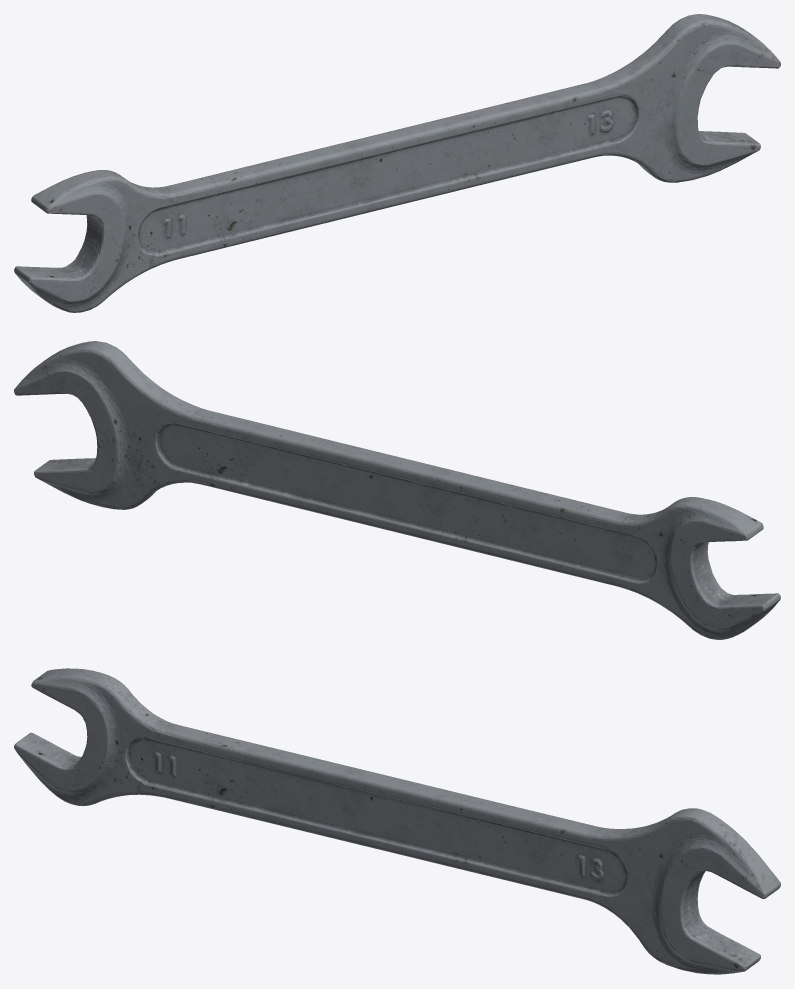
Rendered from wires_4.obj.
3 renders of one model, top to bottom at view 1: azimuth 30°, elevation 25°; view 2: azimuth 150°, elevation 25°; view 3: azimuth 330°, elevation 25°, orthographic.
Parts seen in each view (by area): view 1: defaultMaterial; view 2: defaultMaterial; view 3: defaultMaterial.
Boxes of the visible parts, left/top/right/bottom form: defaultMaterial: left=14, top=14, right=780, bottom=312; defaultMaterial: left=14, top=341, right=780, bottom=639; defaultMaterial: left=14, top=668, right=780, bottom=974.
Bounding box in the file's own units: 0.1399 × 0.0279 × 0.00551.
Materials: 1 (1 with a texture image).
